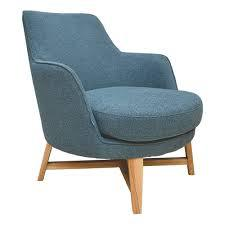chair: (14, 4, 198, 208)
